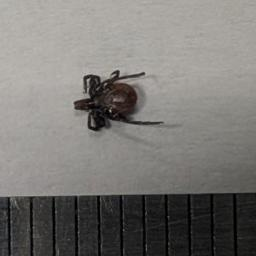Ixodes scapularis: (73, 71, 165, 131)
